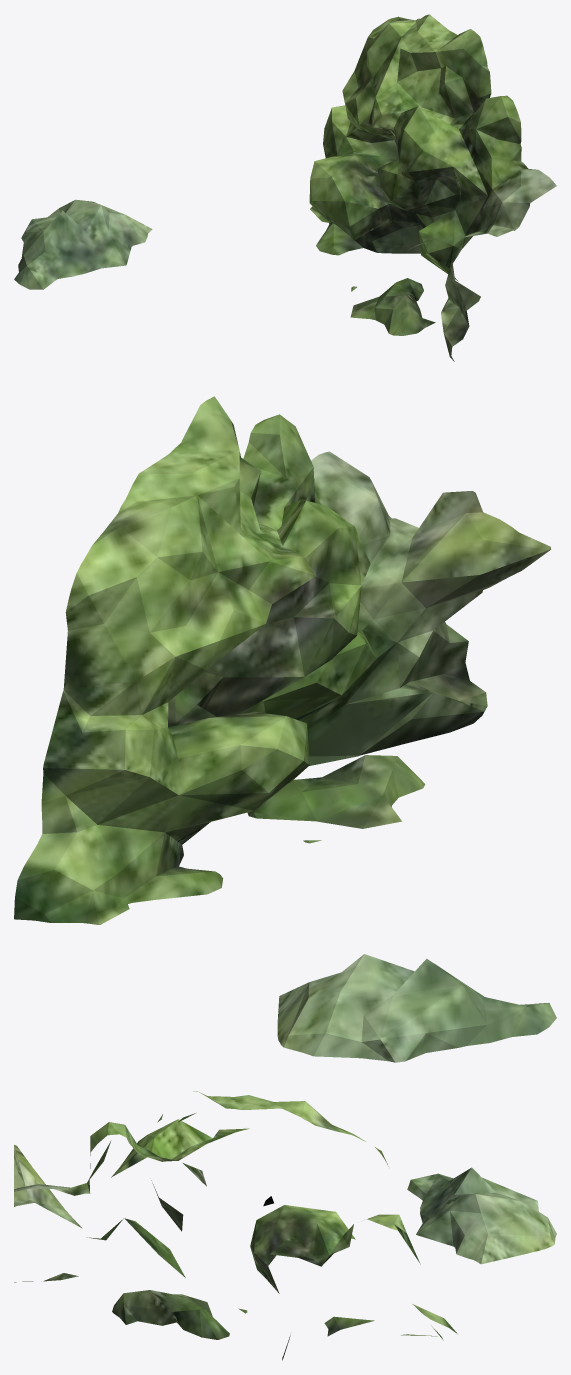
3 renders of one model, top to bottom at view 1: azimuth 30°, elevation 25°; view 2: azimuth 150°, elevation 25°; view 3: azimuth 270°, elevation 25°, orthographic. The views are drawn at different scales.
Bounding box in the file's own units: 13.38 × 9.44 × 17.25.
1 material, 1 textured.
